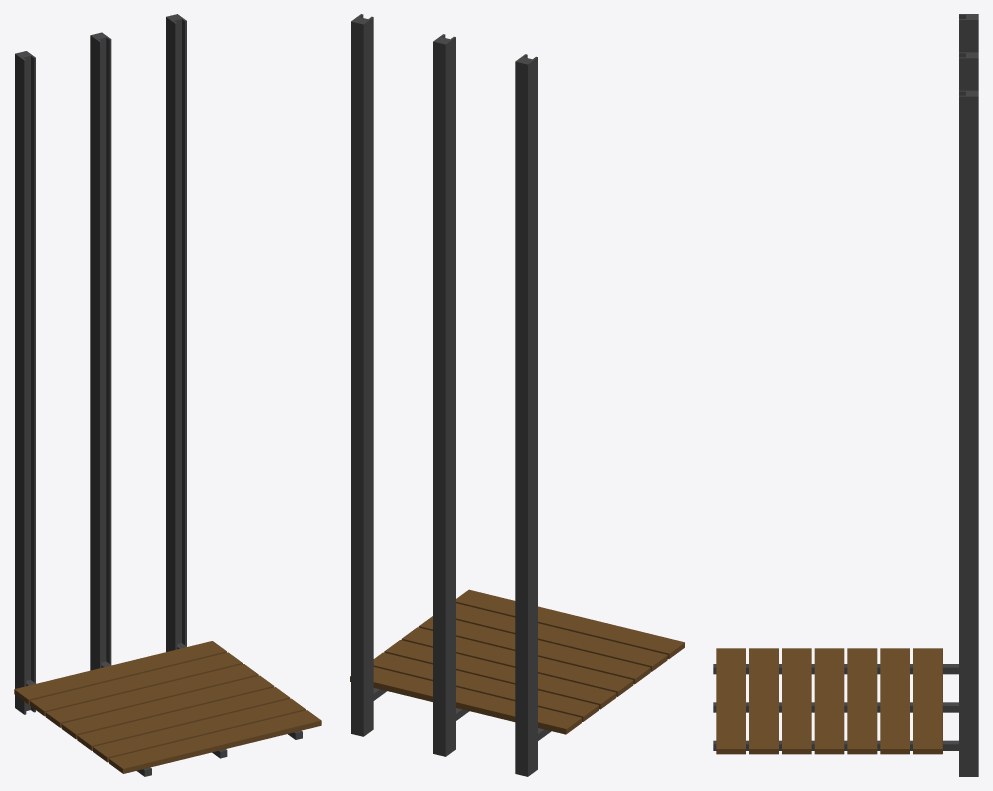
File: Elevator_v1.fbx
3 views of the same model, side by side, from view 1: azimuth 30°, elevation 25°; view 2: azimuth 150°, elevation 25°; view 3: azimuth 270°, elevation 25° (orthographic). The views are drawn at different scales.
Visible parts, largest first — view 1: Plane.024, Plane.019; view 2: Plane.024, Plane.019; view 3: Plane.019, Plane.024.
Boxes of the visible parts, x1,y1,x2,y2 form: Plane.024: (15,14,186,714); Plane.019: (14,641,321,773); Plane.024: (351,14,537,776); Plane.019: (350,589,684,734); Plane.019: (716,648,942,754); Plane.024: (959,14,978,776).
Size of the model in its own units: 200 by 630 by 222.
